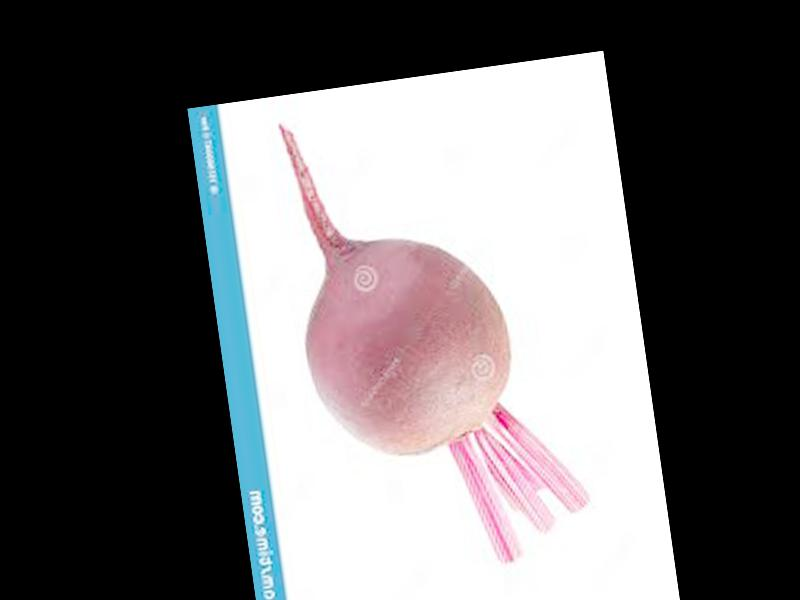Beet: (278, 93, 594, 584)
